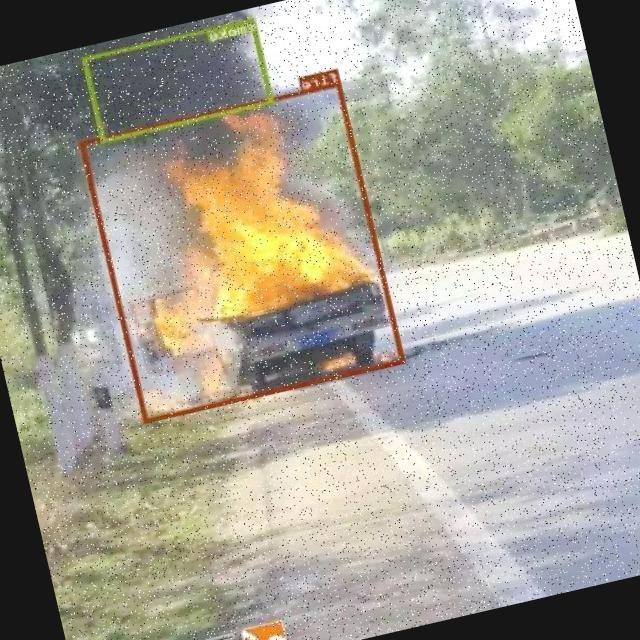smoke: (83, 17, 274, 142)
